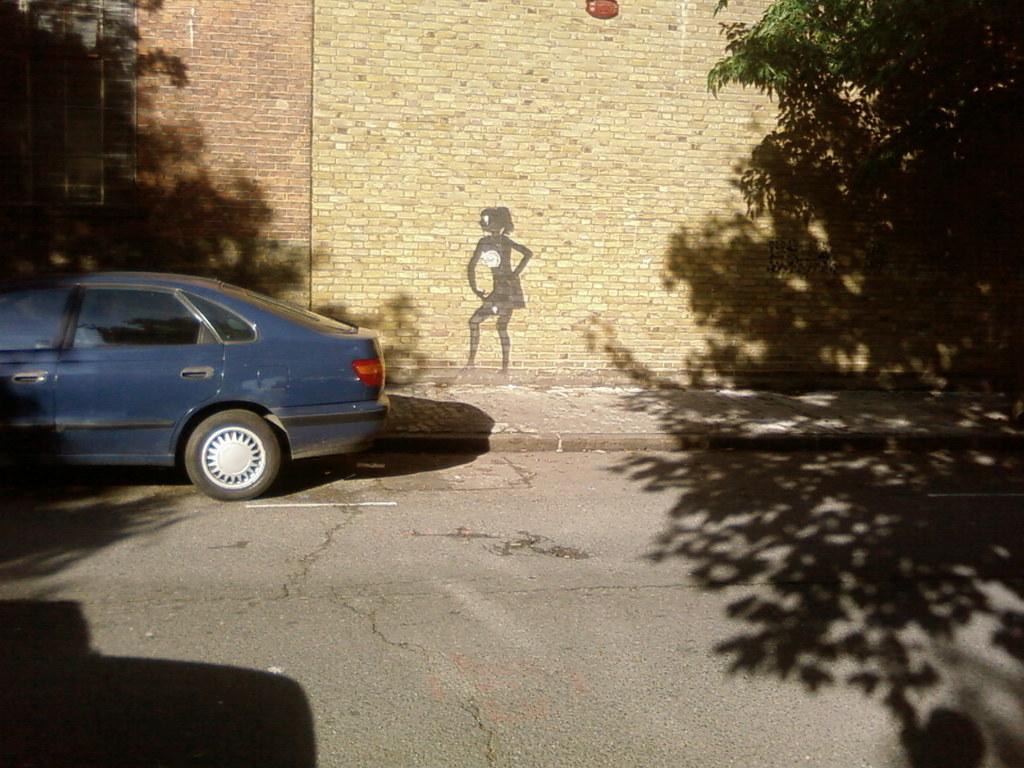Car: (3, 264, 396, 509)
